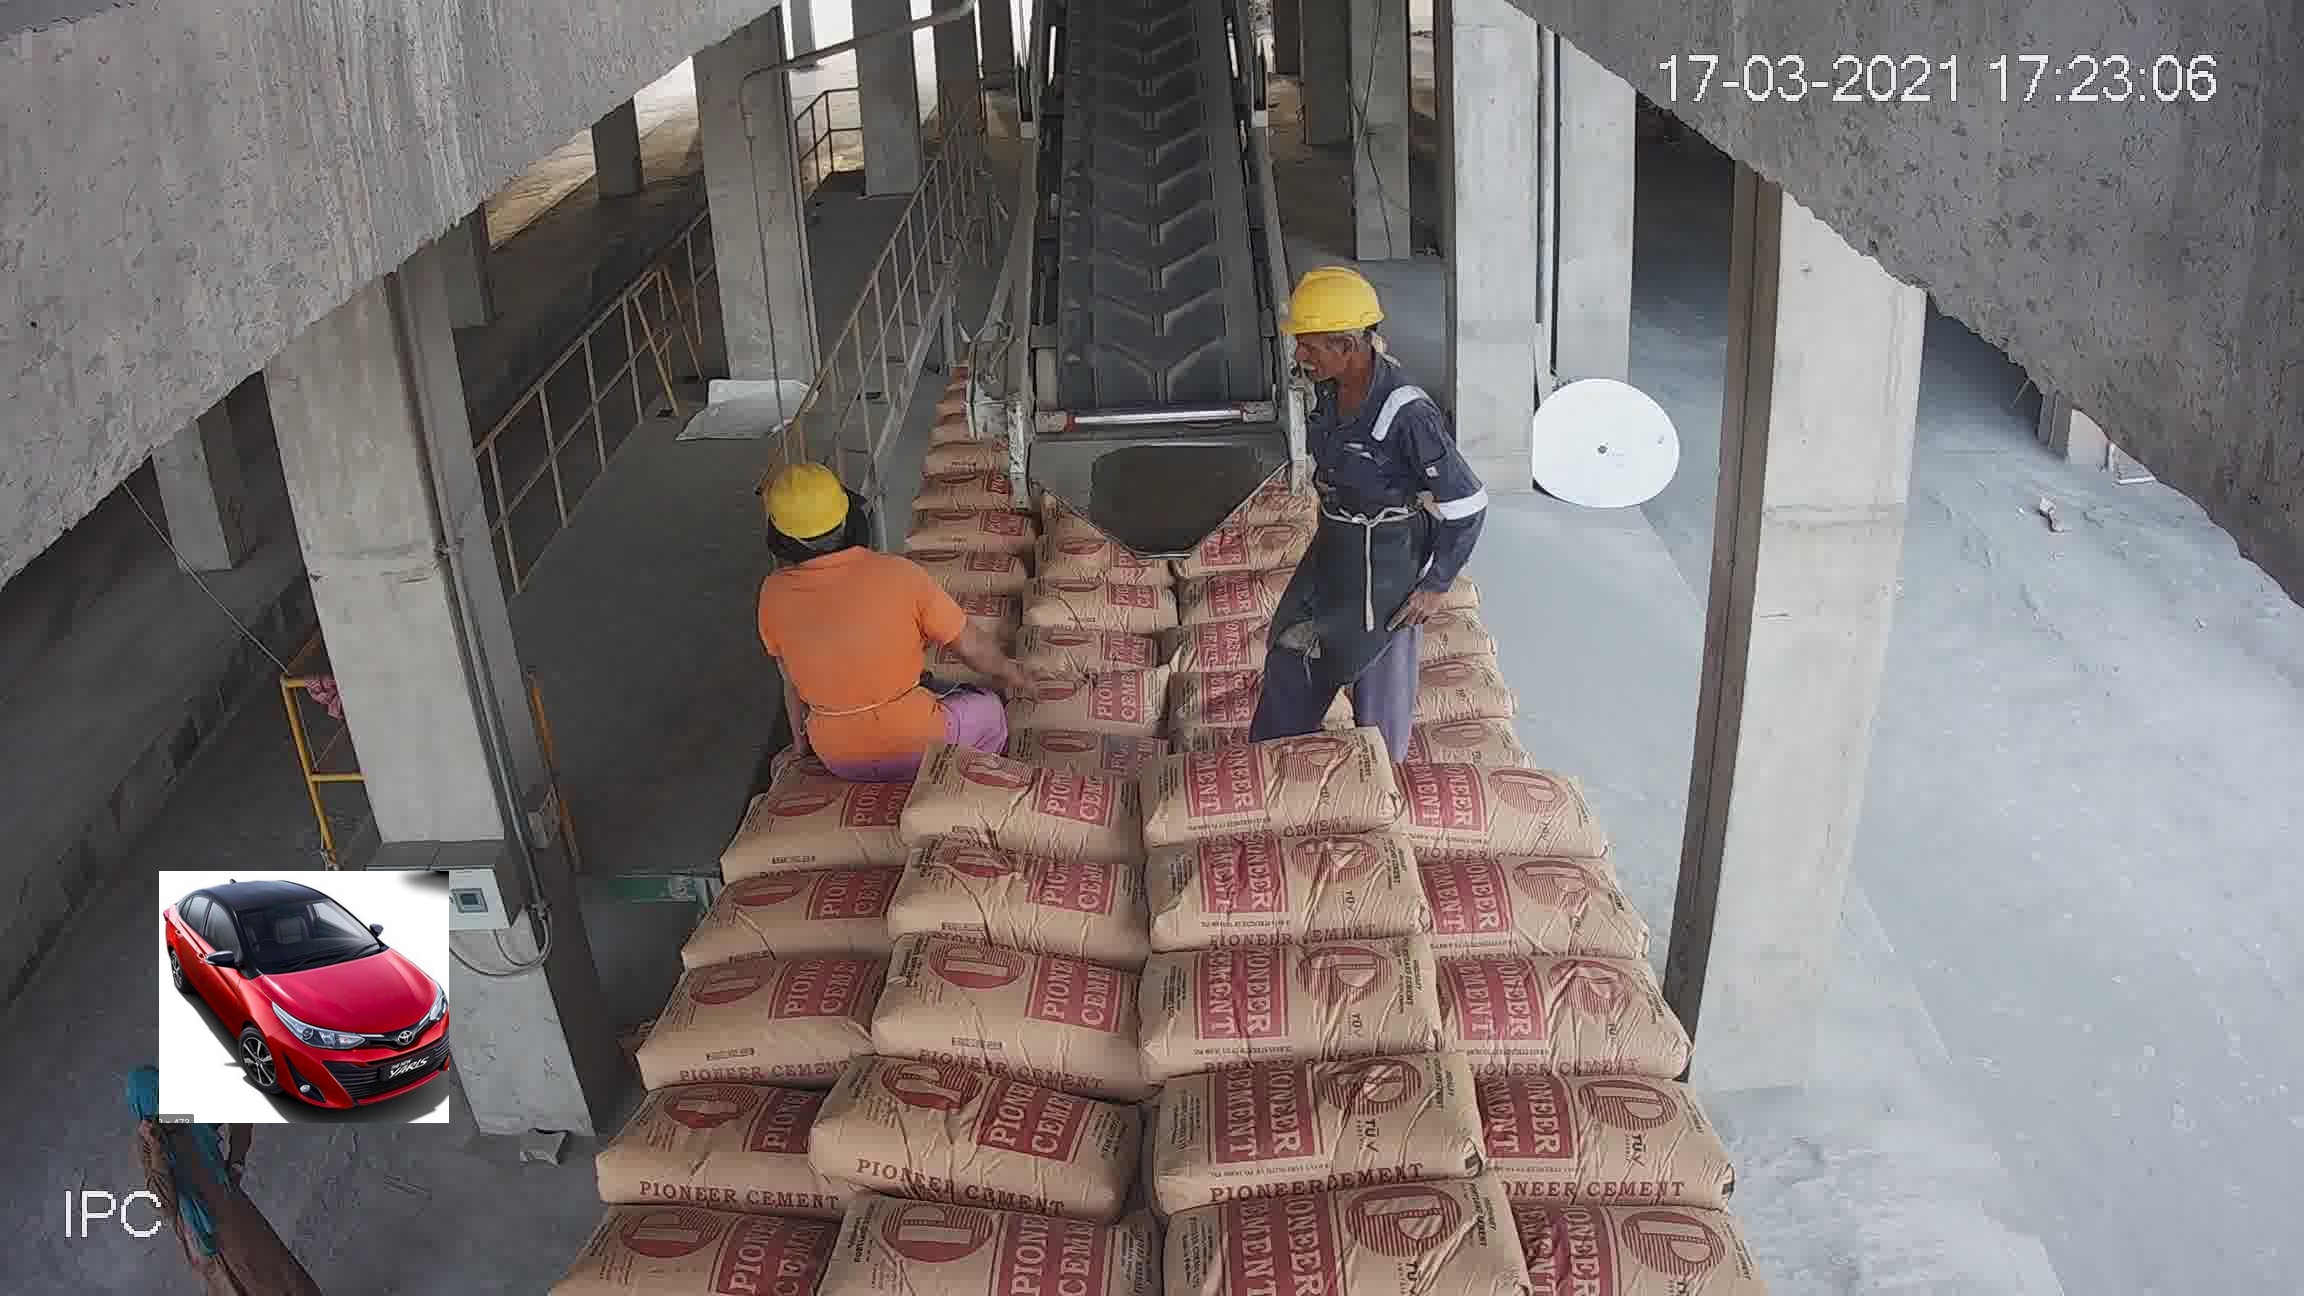bag: (1100, 150, 1211, 252)
bag_h: (1166, 1051, 1457, 1211), (1133, 929, 1456, 1073), (1169, 1166, 1527, 1296), (642, 942, 916, 1100), (810, 1063, 1109, 1198), (858, 946, 1150, 1079), (1130, 820, 1424, 948), (791, 1198, 1139, 1296), (570, 1071, 801, 1218), (1442, 938, 1669, 1082), (913, 836, 1166, 959), (1141, 729, 1389, 850), (1491, 1060, 1720, 1185), (692, 859, 908, 983), (1423, 847, 1631, 972), (1386, 748, 1617, 859), (1525, 1180, 1747, 1296), (555, 1196, 802, 1296), (888, 760, 1122, 861), (726, 777, 929, 891), (1377, 669, 1570, 777), (1173, 668, 1378, 764), (926, 693, 1158, 771), (744, 714, 934, 804), (1185, 589, 1377, 677), (779, 562, 965, 650), (1385, 608, 1544, 711), (1169, 513, 1332, 611), (785, 627, 948, 723), (976, 606, 1166, 676), (1332, 505, 1473, 590), (1362, 552, 1529, 620), (964, 560, 1154, 609), (1059, 479, 1179, 541), (1337, 479, 1449, 536), (1057, 456, 1161, 495)
belt: (1052, 13, 1274, 429)
